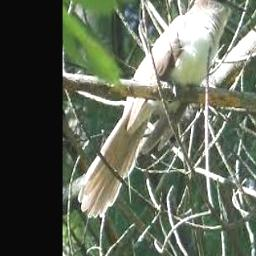Cuckoo: (78, 0, 247, 217)
